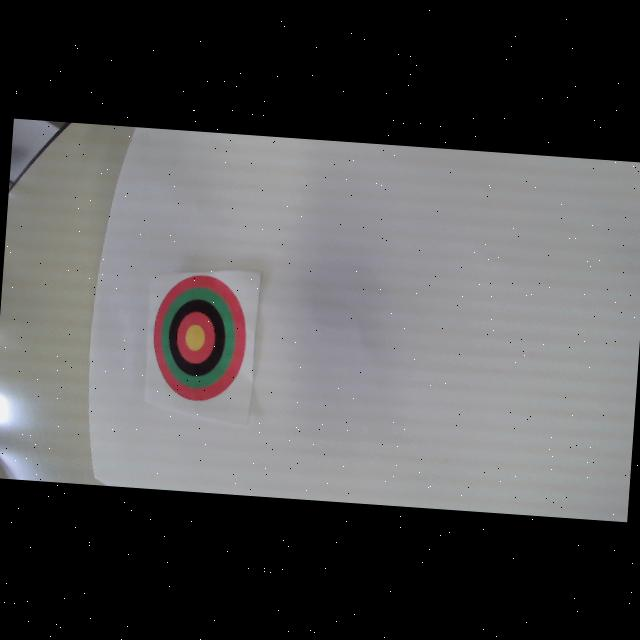COGNITIVE: (148, 270, 250, 404)
